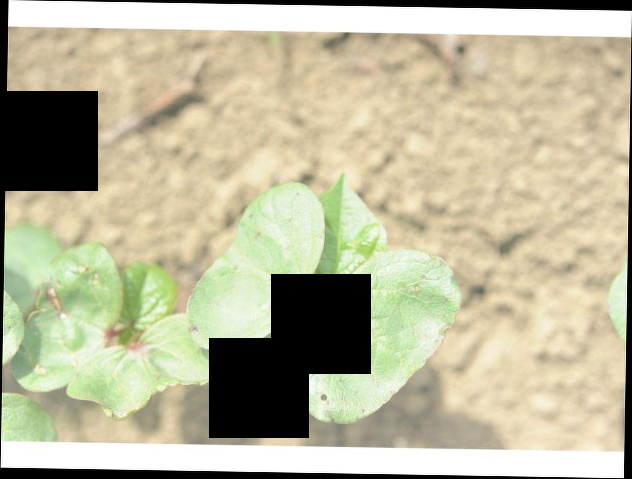cotton: (188, 170, 462, 424), (3, 226, 226, 419)
